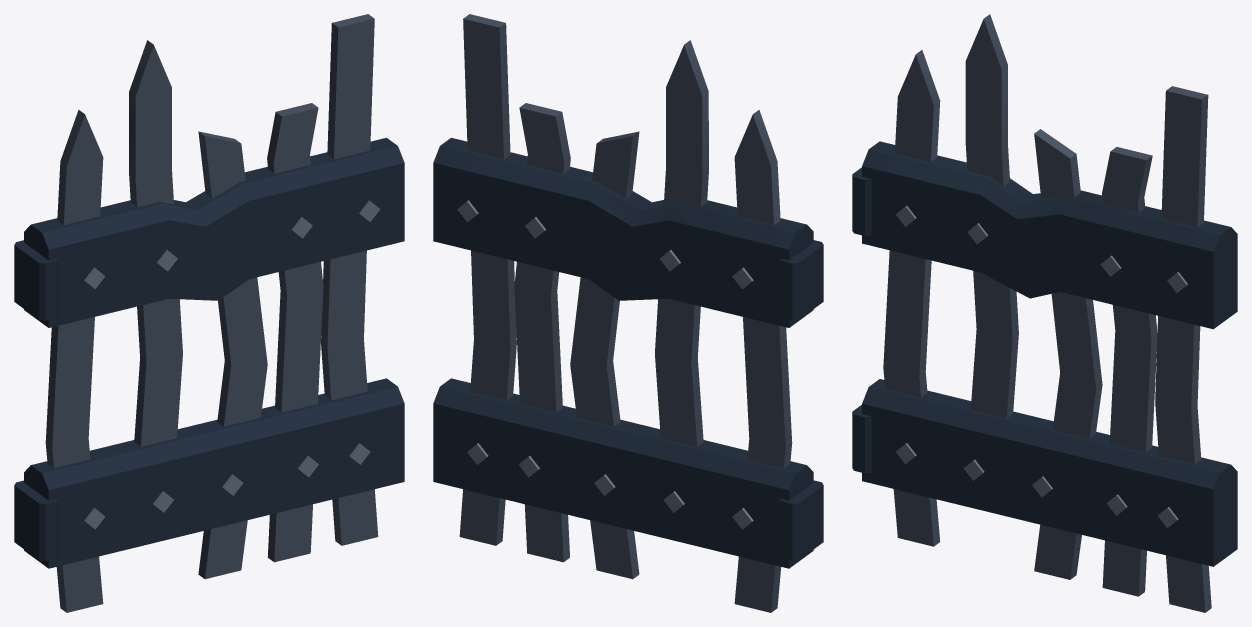
Rendered from Gate 03.FBX.
3 views of the same model, side by side, from view 1: azimuth 30°, elevation 25°; view 2: azimuth 150°, elevation 25°; view 3: azimuth 330°, elevation 25° (orthographic).
Visible parts, largest first — view 1: Gate 03; view 2: Gate 03; view 3: Gate 03.
Boxes of the visible parts, bbox=[...] form: Gate 03: bbox=[14, 14, 404, 612]; Gate 03: bbox=[433, 14, 823, 612]; Gate 03: bbox=[852, 14, 1237, 612].
Bounding box in the file's own units: 161 × 230 × 22.5.
1 material, 1 textured.
